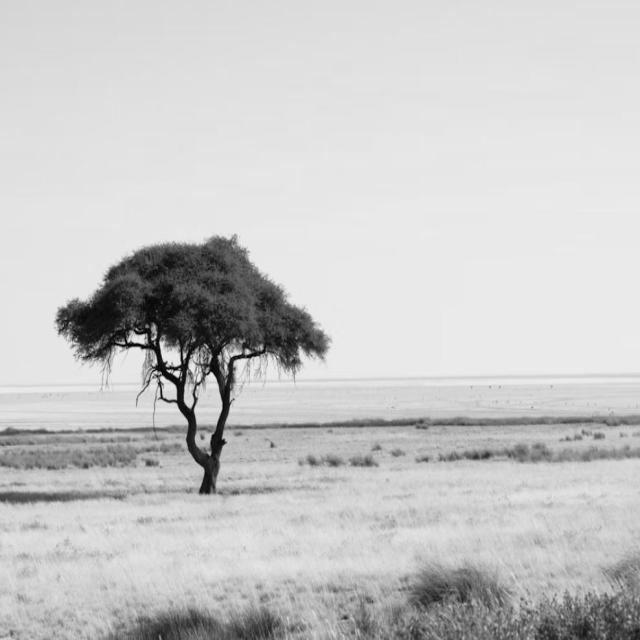Acacia: (42, 218, 333, 494)
